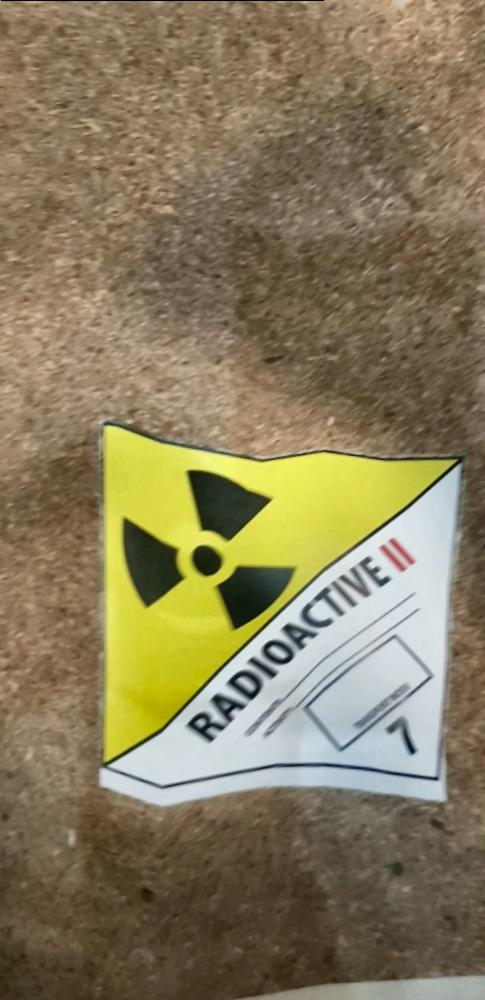radioactive: (101, 424, 463, 809)
